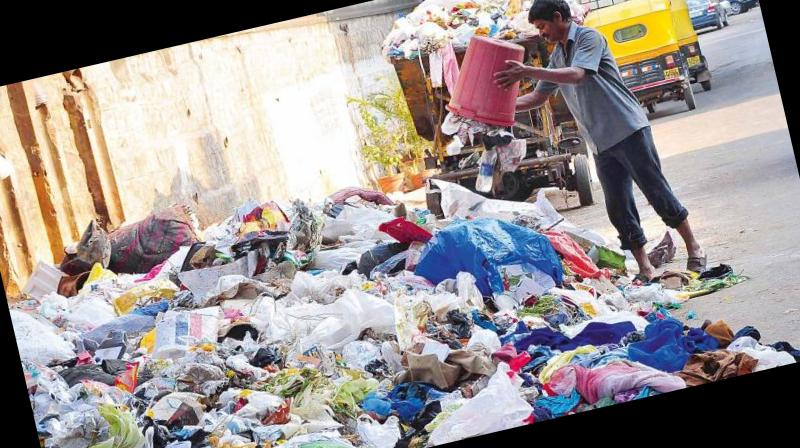road: (650, 8, 800, 346)
trash: (19, 197, 738, 448)
